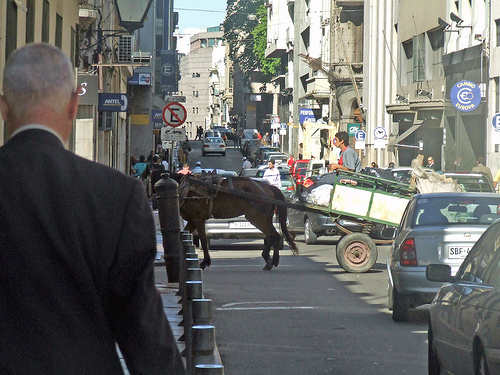horse: (139, 161, 300, 271)
